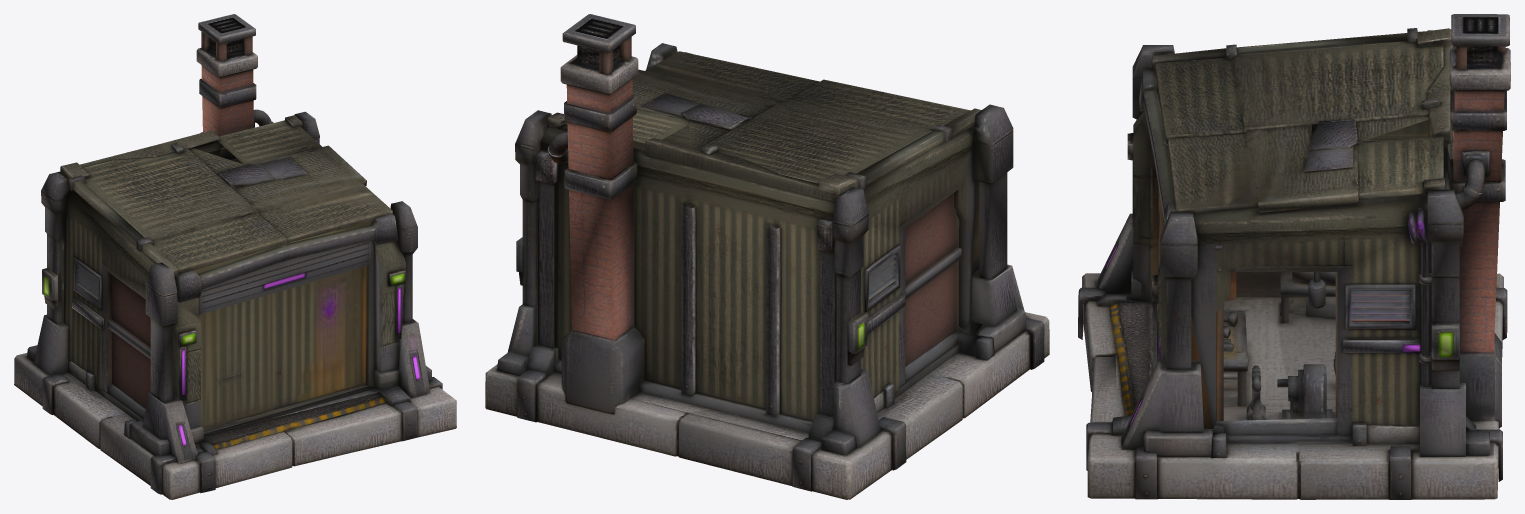
The model's file is forge_l02.glb.
3 renders of one model, left to right at view 1: azimuth 30°, elevation 25°; view 2: azimuth 150°, elevation 25°; view 3: azimuth 270°, elevation 25°, orthographic. The views are drawn at different scales.
Parts seen in each view (by area): view 1: tripo_node_6db6c578-824b-4f1f-9c33-b0364f400a3b; view 2: tripo_node_6db6c578-824b-4f1f-9c33-b0364f400a3b; view 3: tripo_node_6db6c578-824b-4f1f-9c33-b0364f400a3b.
Boxes of the visible parts, box(x1,y1,x2,y2) form: tripo_node_6db6c578-824b-4f1f-9c33-b0364f400a3b: box(14, 14, 456, 499); tripo_node_6db6c578-824b-4f1f-9c33-b0364f400a3b: box(485, 14, 1049, 499); tripo_node_6db6c578-824b-4f1f-9c33-b0364f400a3b: box(1078, 14, 1510, 499).
Bounding box in the file's own units: 0.9849 × 0.9995 × 0.9341.
1 material, 1 textured.
